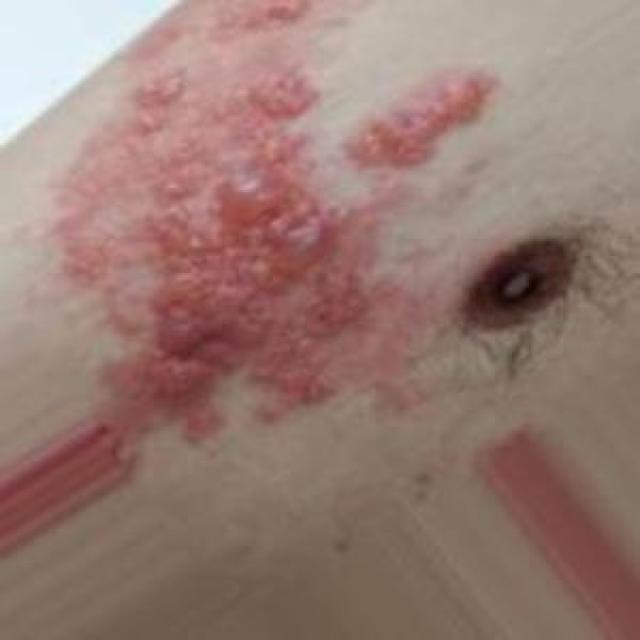Shingles: (59, 0, 359, 439), (342, 66, 499, 171)
